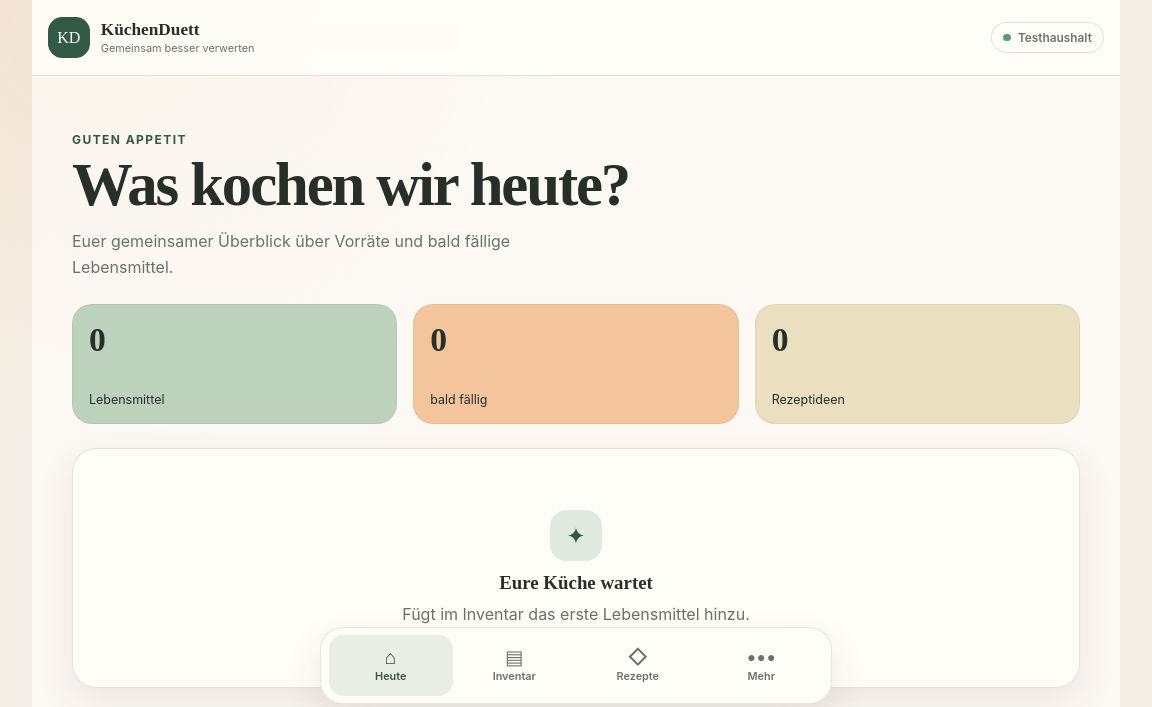
Test case: App › wechselt über die Hauptnavigation zum Inventar
Click the link "▤ Inventar".
click(514, 664)  # box top-left (493, 645), bottom-right (536, 683)
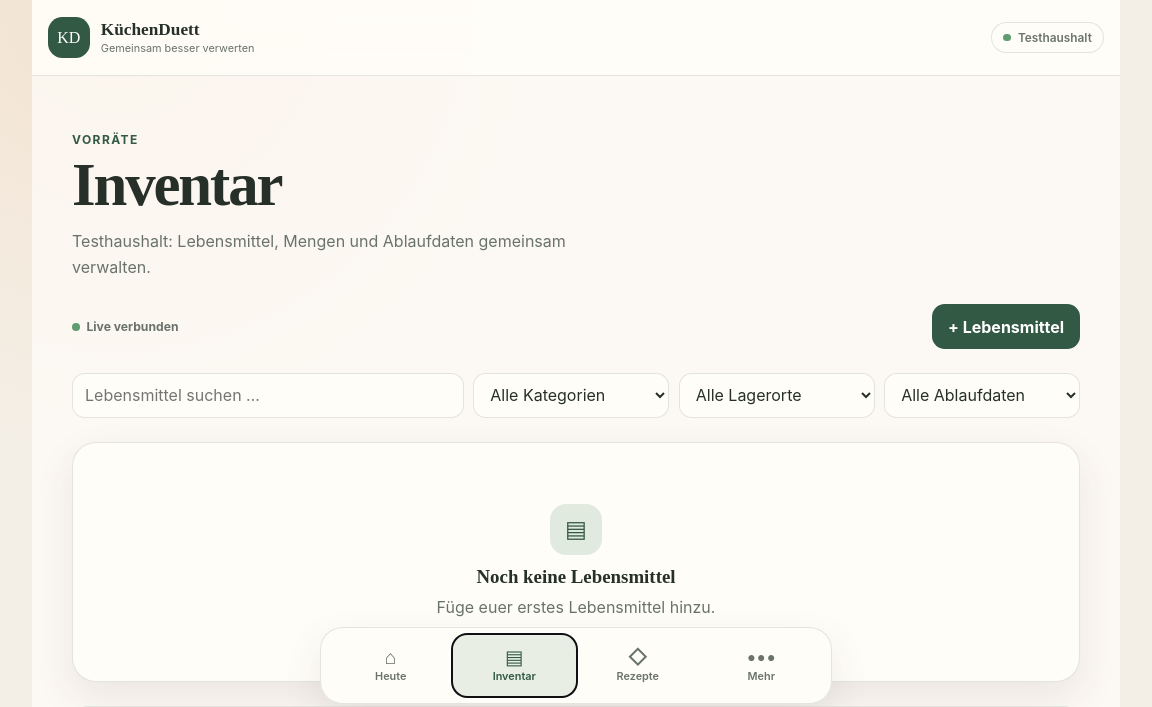
Check: the heading "Inventar" is shown, box top-left (72, 151), bottom-right (281, 218)
